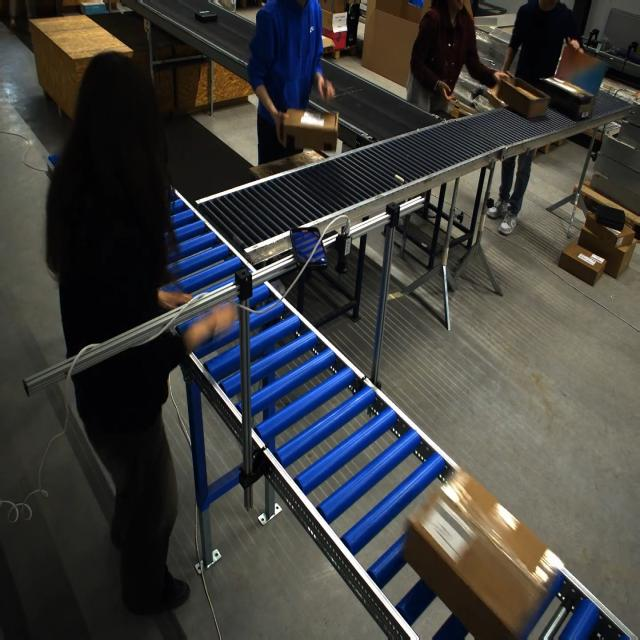box: (404, 469, 563, 639), (490, 72, 551, 120), (535, 74, 595, 120), (280, 109, 337, 153)
product: (194, 10, 218, 22)
